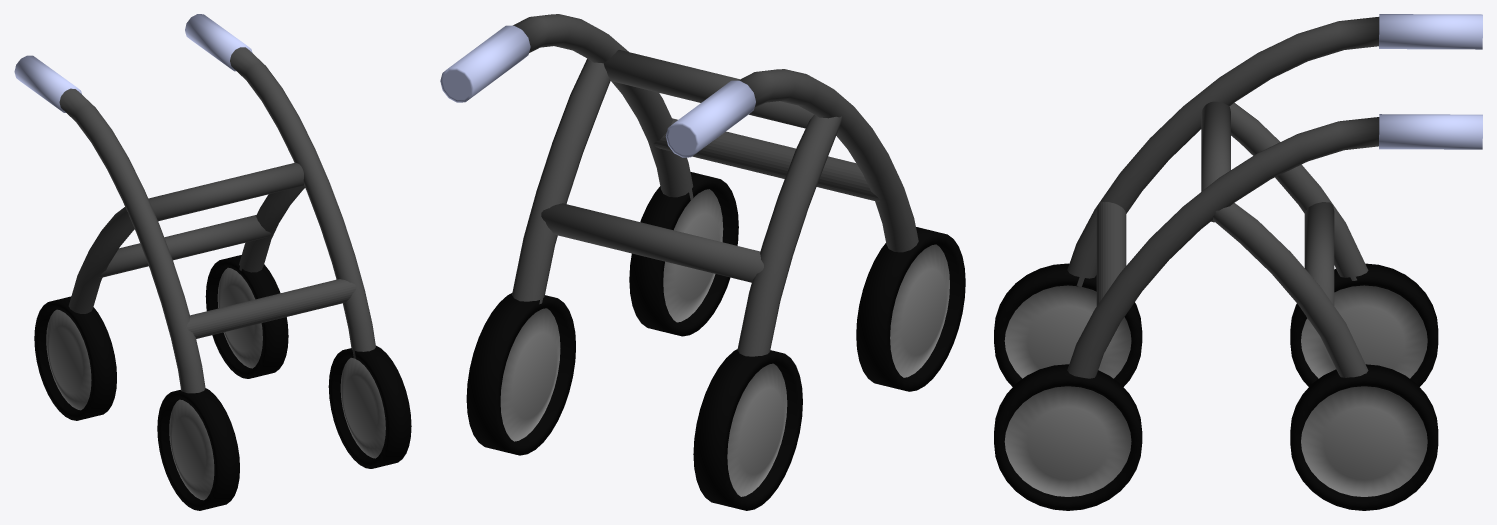
Rendered from Taka taka.fbx.
3 renders of one model, left to right at view 1: azimuth 30°, elevation 25°; view 2: azimuth 150°, elevation 25°; view 3: azimuth 270°, elevation 25°, orthographic. The views are drawn at different scales.
Visible parts, largest first — view 1: BézierCurve.001; view 2: BézierCurve.001; view 3: BézierCurve.001.
Part boxes in pixels (x1=…): BézierCurve.001: x1=14, y1=14, x2=411, y2=510; BézierCurve.001: x1=440, y1=14, x2=965, y2=510; BézierCurve.001: x1=994, y1=14, x2=1482, y2=510.
Size of the model in its own units: 1.84 by 2.9 by 3.3.
